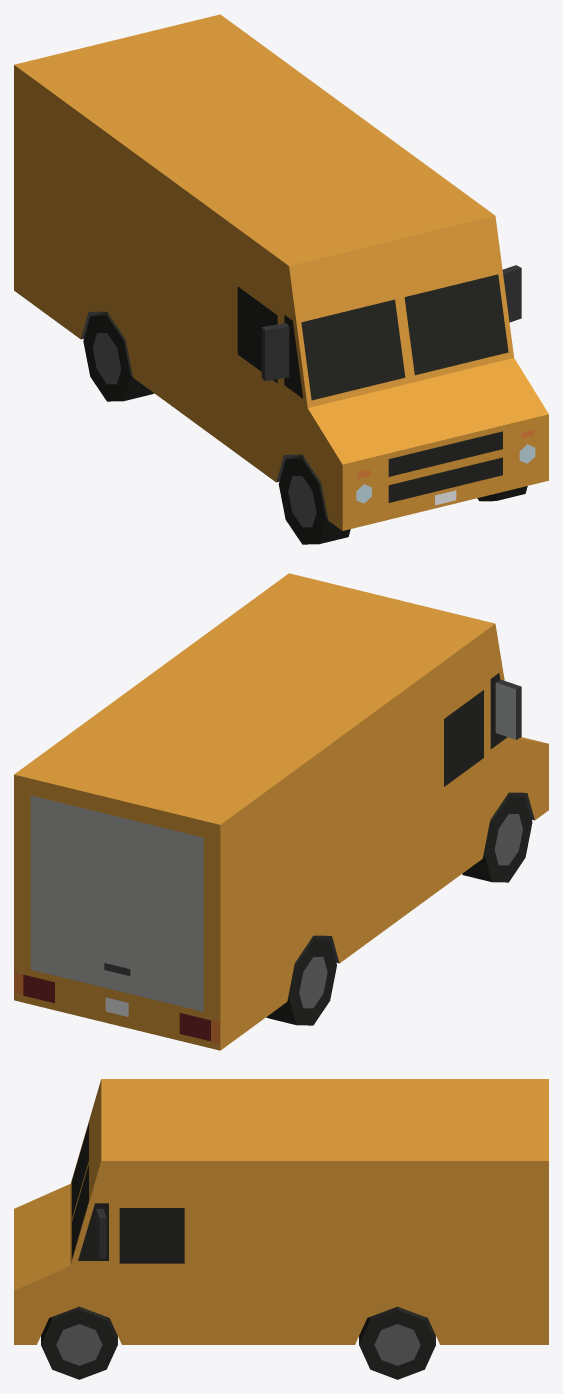
Rendered from Veh_StepVan_01_Yellow.glb.
3 views of the same model, one above another, from view 1: azimuth 30°, elevation 25°; view 2: azimuth 150°, elevation 25°; view 3: azimuth 270°, elevation 25° (orthographic). The views are drawn at different scales.
Visible parts, largest first — view 1: StepVan_Yellow, Wheel_FR, Wheel_RR; view 2: StepVan_Yellow, Wheel_FR, Wheel_RR; view 3: StepVan_Yellow, Wheel_FL, Wheel_RL.
Part boxes in pixels (x1,y1,x2,y2): StepVan_Yellow: (14,14,548,530); Wheel_FR: (278,455,350,544); Wheel_RR: (83,312,154,401); StepVan_Yellow: (14,573,548,1050); Wheel_FR: (462,793,532,882); Wheel_RR: (266,936,336,1025); StepVan_Yellow: (14,1079,548,1344); Wheel_FL: (41,1306,117,1379); Wheel_RL: (359,1306,435,1379).
Size of the model in its own units: 1.57 by 1.57 by 3.48.
Materials: 1 (1 with a texture image).
